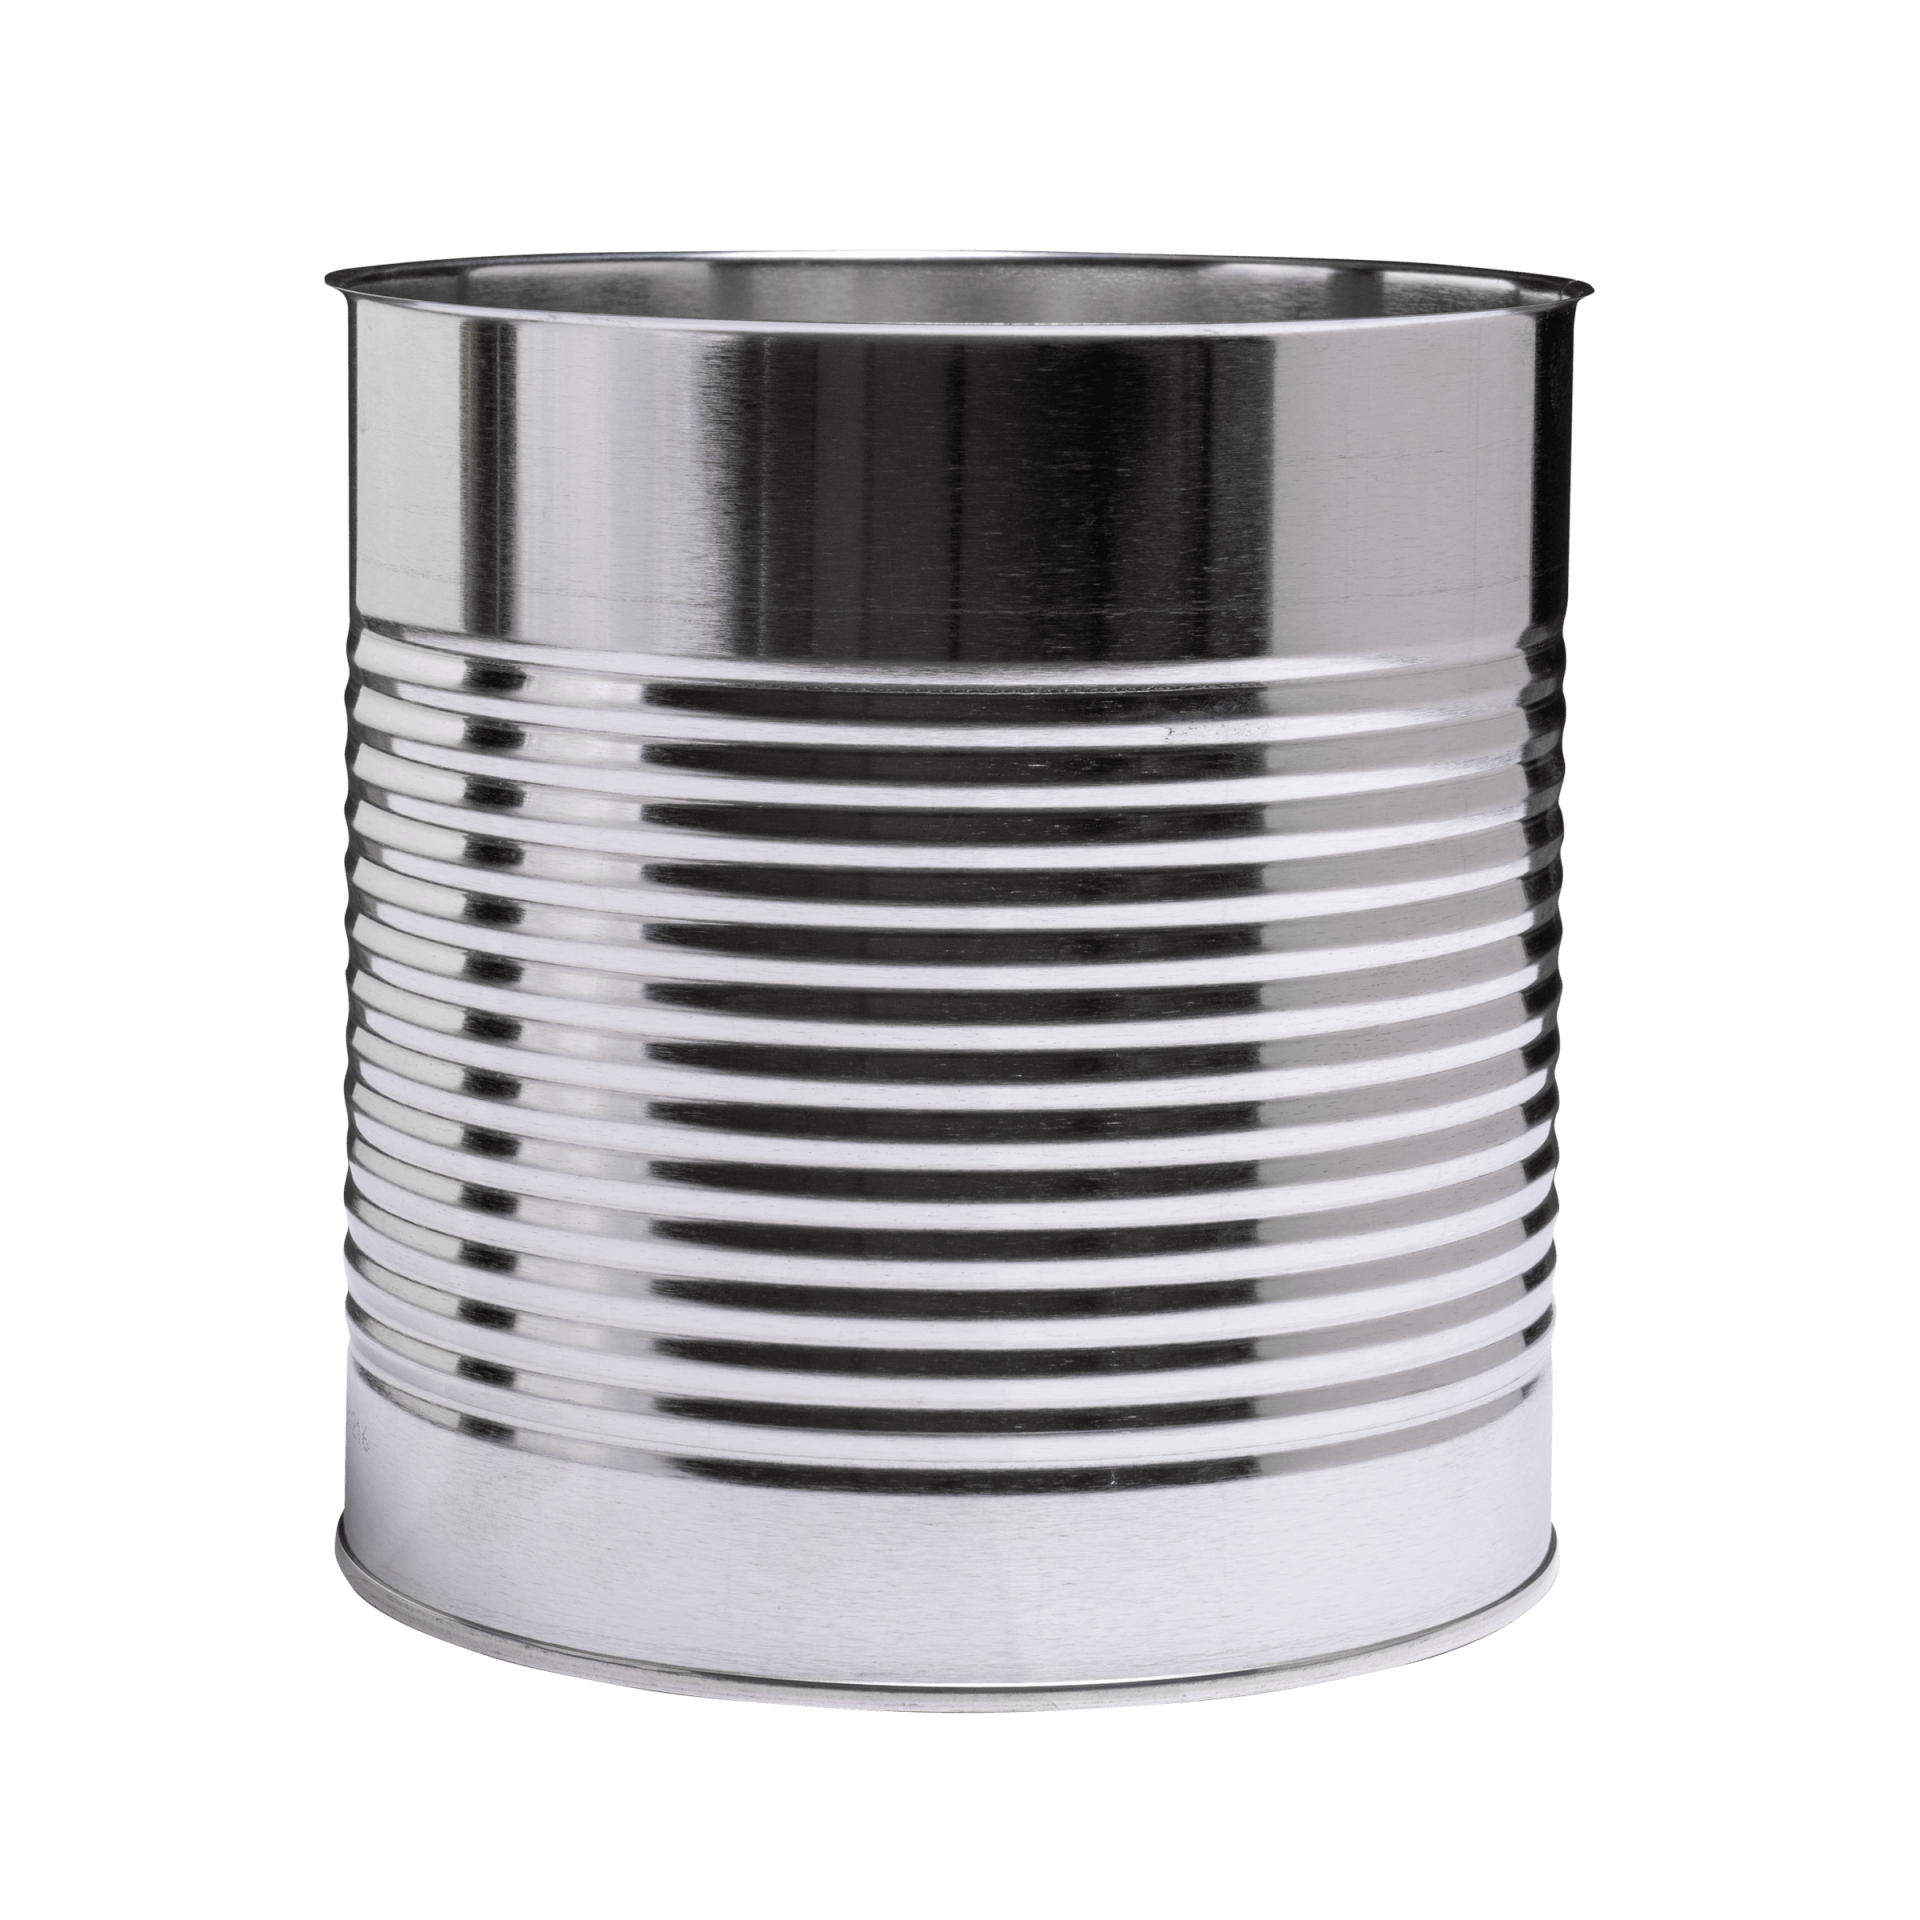can: (234, 197, 1656, 1741)
